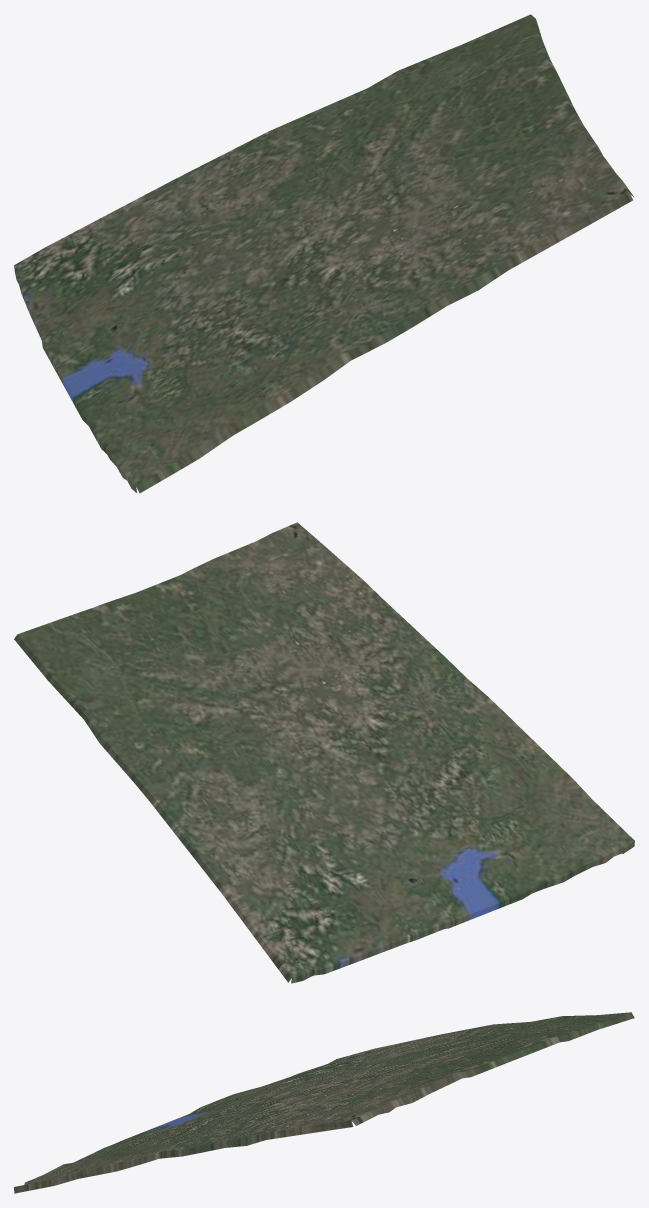
3 views of the same model, one above another, from view 1: azimuth 30°, elevation 25°; view 2: azimuth 150°, elevation 25°; view 3: azimuth 330°, elevation 25° (orthographic). The views are drawn at different scales.
Bounding box in the file's own units: 703217 × 281827 × 681480.
1 material, 1 textured.
